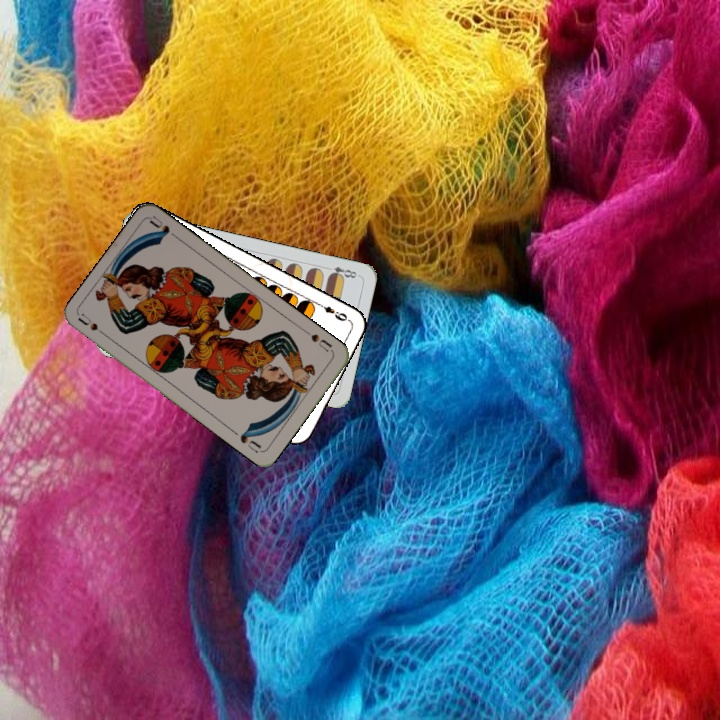E8: (322, 262, 361, 281)
E9: (314, 299, 351, 324)
SU: (75, 310, 112, 341), (301, 326, 336, 355)
